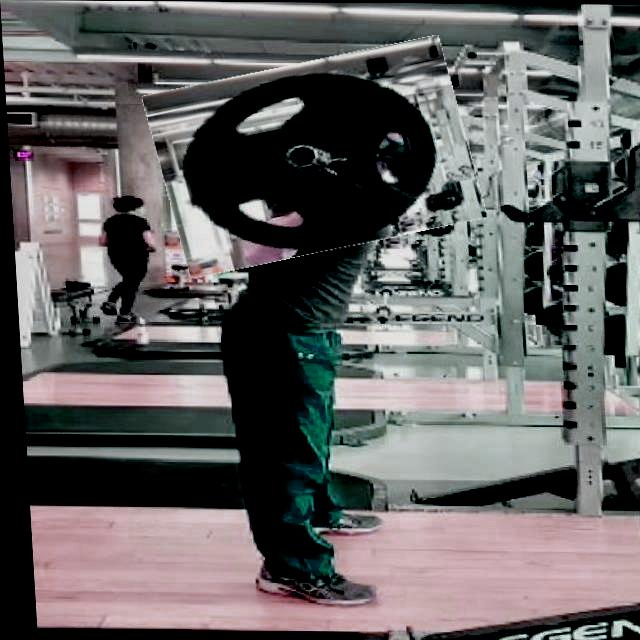barbell: (146, 49, 480, 266)
